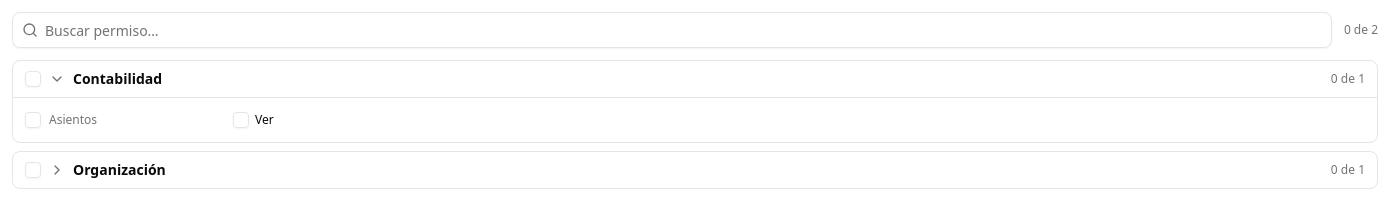
it: PermissionsPicker — acordeón › el primer click sobre el módulo ya desplegado lo pliega
The width and height of the screenshot is (1390, 206).
Click the button "Contabilidad 0 de 1": {"x": 118, "y": 78} [49,69,1365,89]
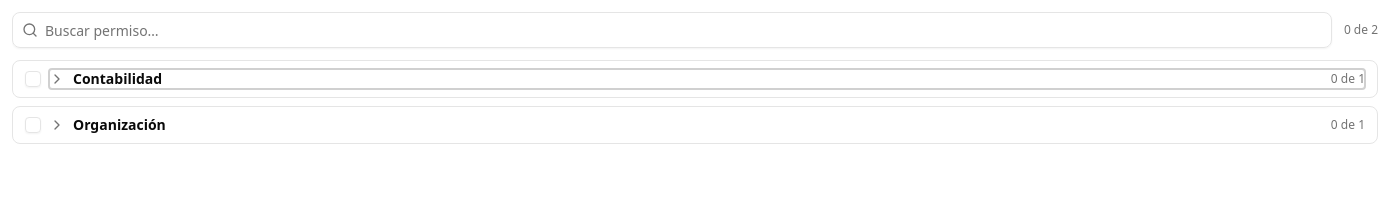
Expected: the button "Contabilidad 0 de 1" is collapsed, [49,69,1365,89]
